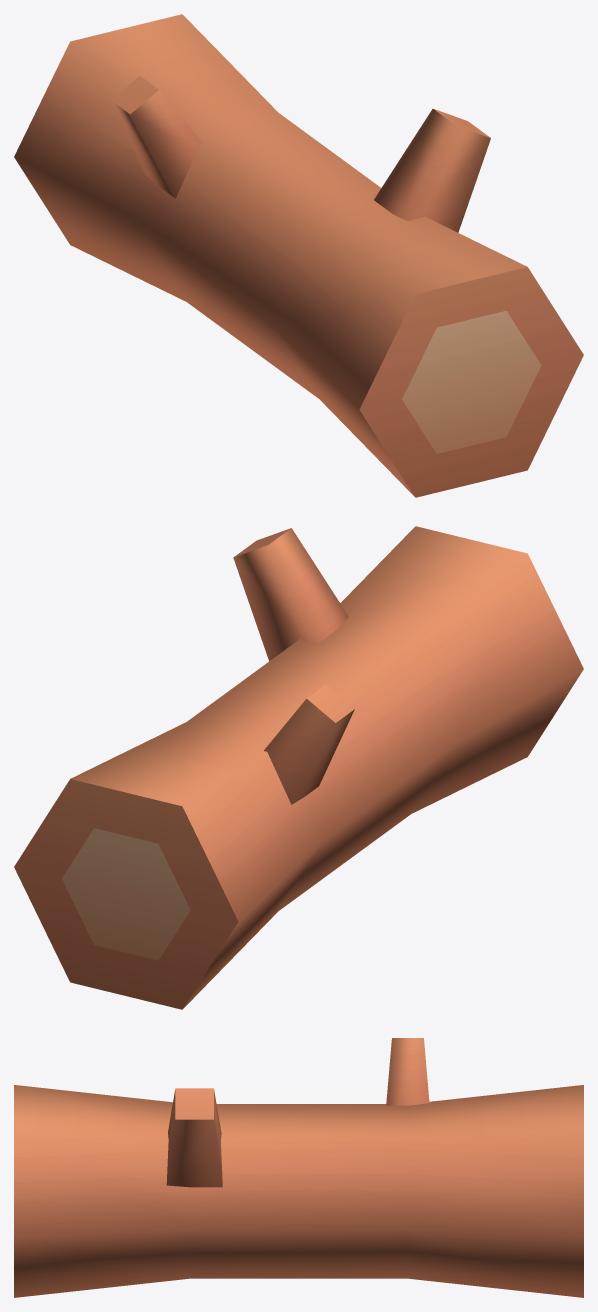
File: tree-log-small.glb
3 renders of one model, top to bottom at view 1: azimuth 30°, elevation 25°; view 2: azimuth 150°, elevation 25°; view 3: azimuth 270°, elevation 25°, orthographic. The views are drawn at different scales.
Parts seen in each view (by area): view 1: tree-log-small; view 2: tree-log-small; view 3: tree-log-small.
Part boxes in pixels (bbox=[...]): tree-log-small: bbox=[14, 14, 583, 497]; tree-log-small: bbox=[14, 526, 583, 1009]; tree-log-small: bbox=[14, 1038, 583, 1297].
Bounding box in the file's own units: 0.2495 × 0.2771 × 0.65.
Materials: 1 (1 with a texture image).
